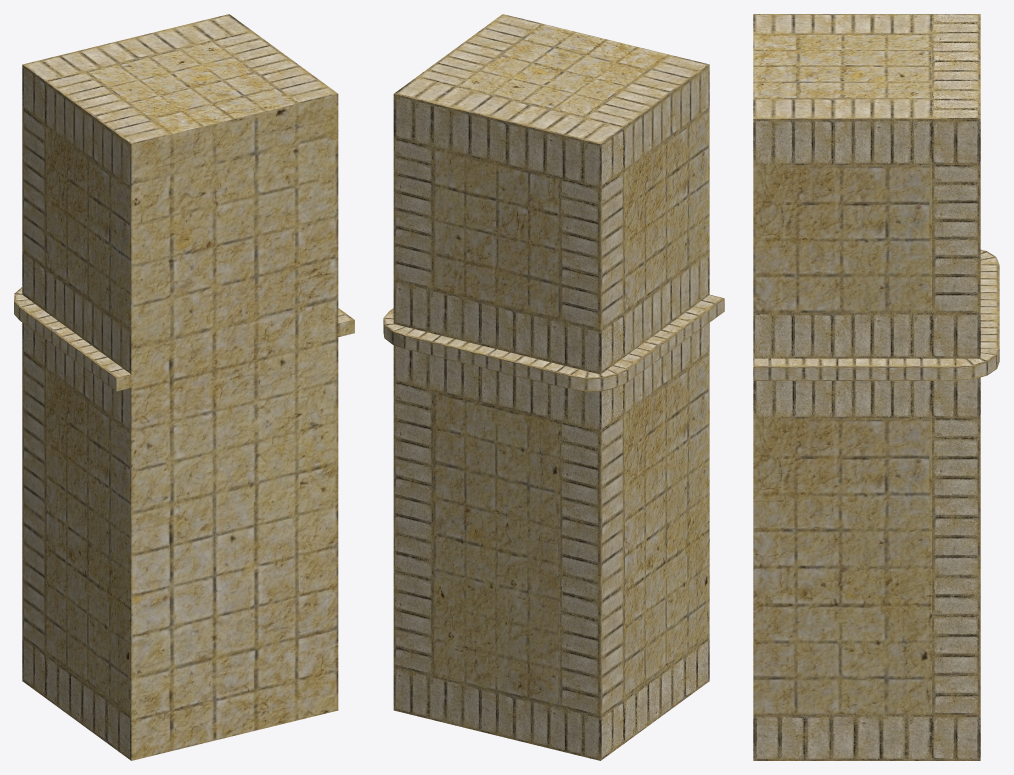
File: tutorial_structure_ledge_leftRight.dae
The picture shows the model from 3 angles, left to right: view 1: azimuth 30°, elevation 25°; view 2: azimuth 150°, elevation 25°; view 3: azimuth 270°, elevation 25°; orthographic projection. The views are drawn at different scales.
Parts seen in each view (by area): view 1: tutorial_structure_ledge_leftRight; view 2: tutorial_structure_ledge_leftRight; view 3: tutorial_structure_ledge_leftRight.
Part boxes in pixels (x1,y1,x2,y2): tutorial_structure_ledge_leftRight: [14, 14, 354, 760]; tutorial_structure_ledge_leftRight: [383, 14, 724, 760]; tutorial_structure_ledge_leftRight: [753, 14, 999, 760].
Bounding box in the file's own units: 4.38 × 3.76 × 10.81.
3 materials, 3 textured.
